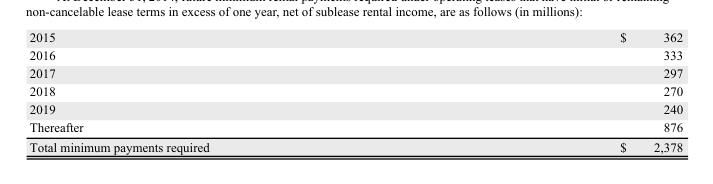table: (28, 29, 682, 153)
table column: (28, 29, 413, 153), (413, 29, 682, 153)
table row: (28, 99, 682, 118), (28, 45, 682, 63), (28, 63, 682, 81), (28, 81, 682, 99), (28, 118, 682, 136), (28, 136, 682, 153), (28, 29, 682, 45)
